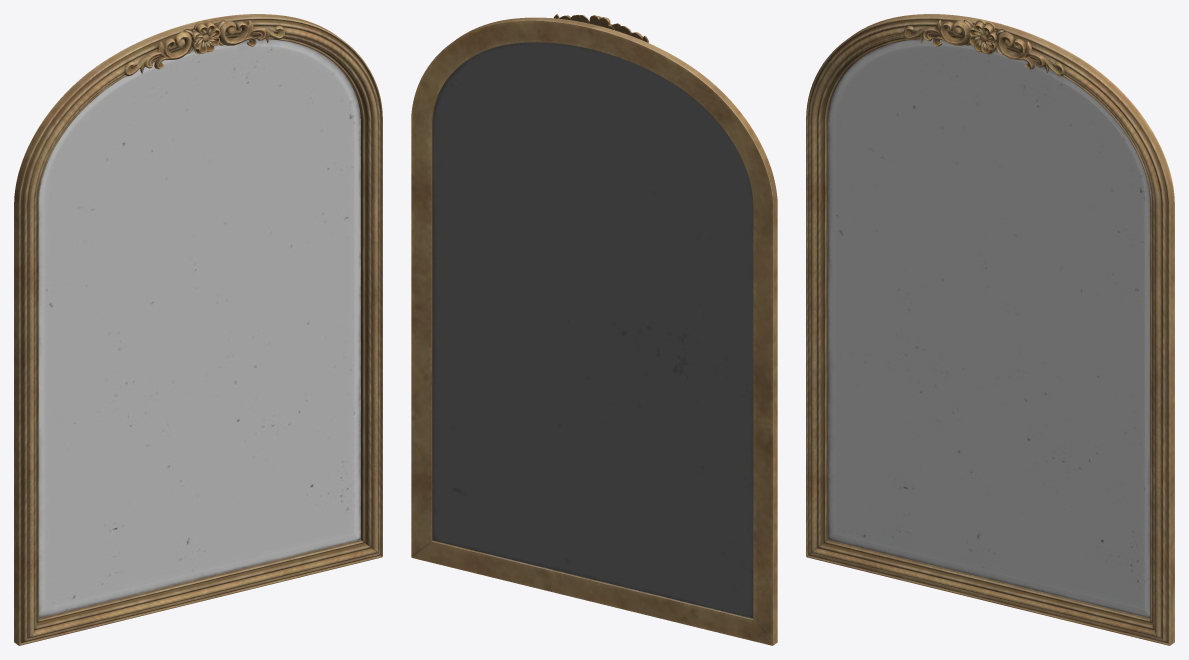
The model's file is ornate_mirror_01.glb.
The picture shows the model from 3 angles, left to right: view 1: azimuth 30°, elevation 25°; view 2: azimuth 150°, elevation 25°; view 3: azimuth 330°, elevation 25°; orthographic projection.
Visible parts, largest first — view 1: ornate_mirror_01; view 2: ornate_mirror_01; view 3: ornate_mirror_01.
Part boxes in pixels (x1=…): ornate_mirror_01: x1=14, y1=14, x2=382, y2=645; ornate_mirror_01: x1=411, y1=14, x2=777, y2=645; ornate_mirror_01: x1=806, y1=14, x2=1174, y2=645.
Size of the model in its own units: 0.4865 by 0.7442 by 0.026.
1 material, 1 textured.
